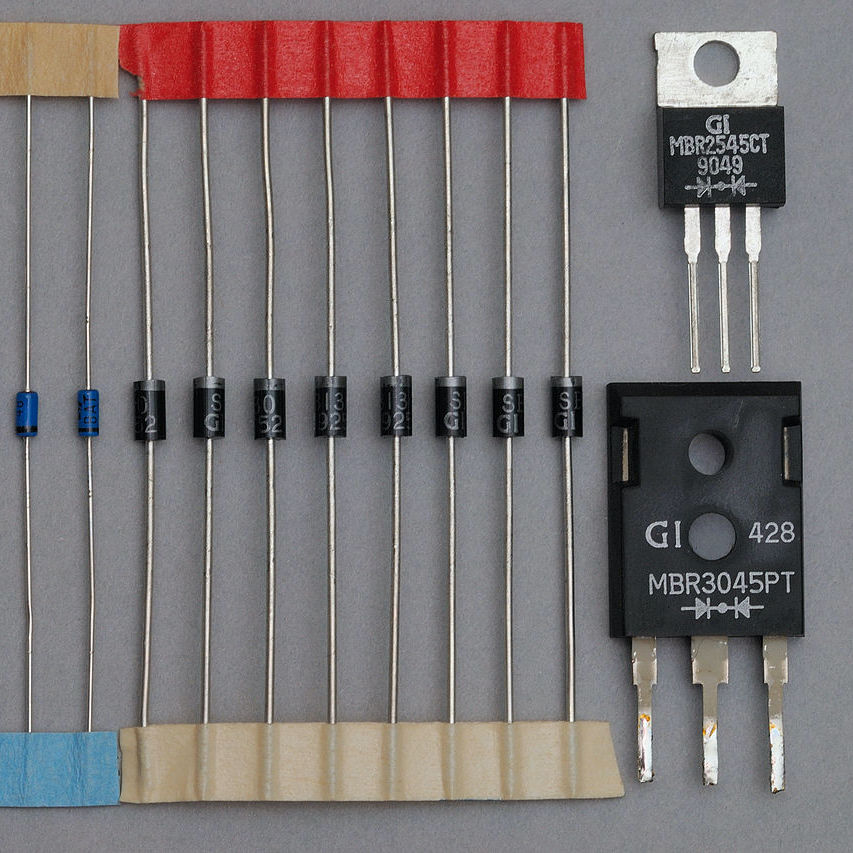Diode: (251, 377, 287, 441), (550, 375, 584, 439), (132, 379, 167, 441), (314, 375, 348, 438), (379, 375, 413, 438), (491, 376, 525, 439), (192, 376, 226, 438), (434, 376, 467, 438), (14, 390, 40, 439), (75, 389, 101, 438)
